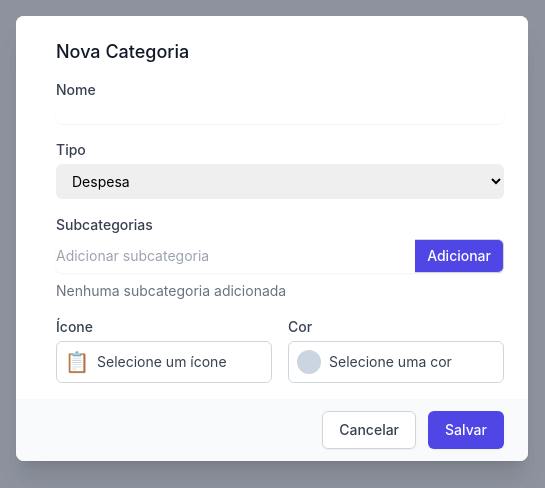
Test: CategoryForm › remove subcategoria quando × é clicado
The width and height of the screenshot is (545, 488).
Adiciona subcategoria
Type "Para Remover" into the field with placeholder "Adicionar subcategoria".
click(236, 256); type("Para Remover")  # box [56, 238, 415, 272]
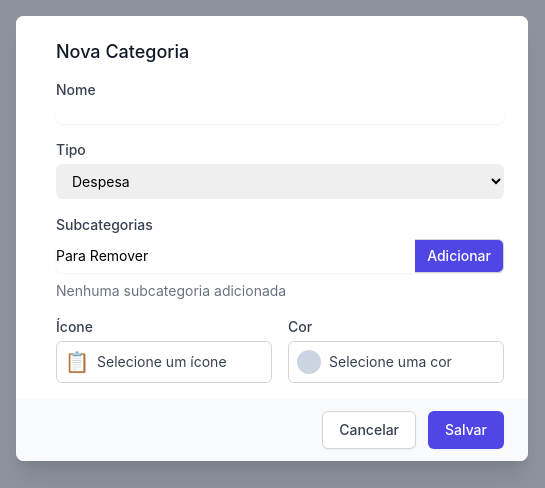
Click the button "Adicionar".
click(460, 256)  # box [415, 238, 504, 272]
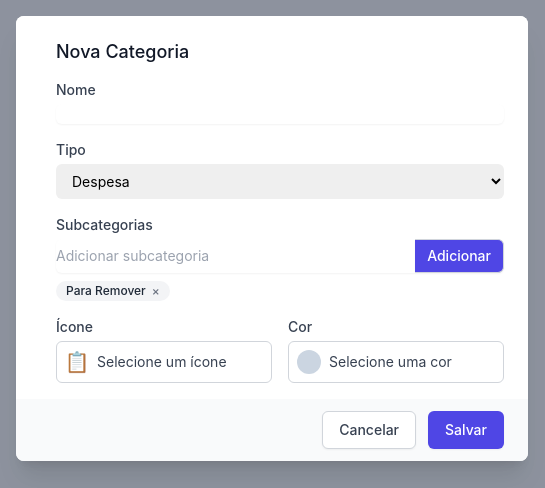
Now the text "Para Remover" is shown, box [66, 282, 146, 298]
Remove subcategoria
Click the button "×".
click(156, 290)  # box [152, 282, 160, 298]
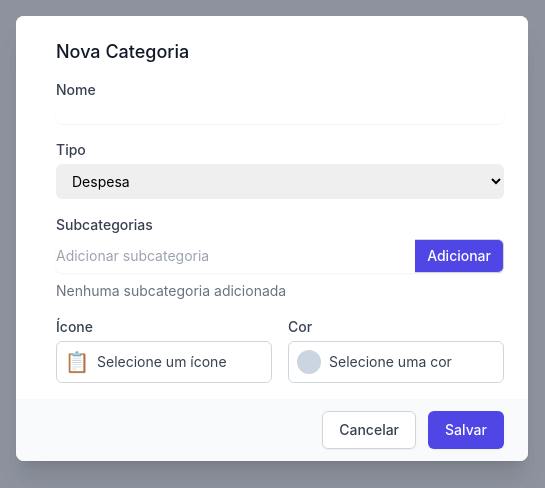
Now the text "Para Remover" is gone
